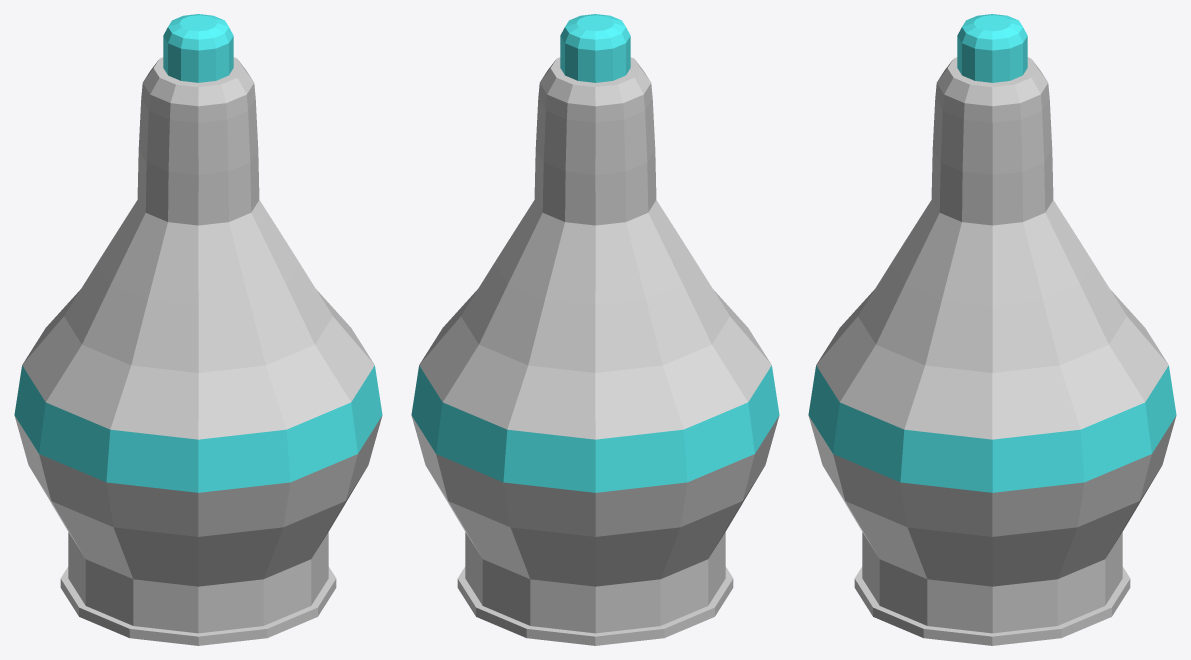
Rendered from fancy_glass_bottle_02.obj.
3 views of the same model, side by side, from view 1: azimuth 30°, elevation 25°; view 2: azimuth 150°, elevation 25°; view 3: azimuth 270°, elevation 25° (orthographic).
Visible parts, largest first — view 1: fancy_glass_bottle_02_m_Glass, fancy_glass_bottle_02_mi_CustomPropMain; view 2: fancy_glass_bottle_02_m_Glass, fancy_glass_bottle_02_mi_CustomPropMain; view 3: fancy_glass_bottle_02_m_Glass, fancy_glass_bottle_02_mi_CustomPropMain.
Boxes of the visible parts, <box> form: fancy_glass_bottle_02_m_Glass: <box>14,57,382,645</box>; fancy_glass_bottle_02_mi_CustomPropMain: <box>14,14,382,492</box>; fancy_glass_bottle_02_m_Glass: <box>411,57,779,645</box>; fancy_glass_bottle_02_mi_CustomPropMain: <box>411,14,779,492</box>; fancy_glass_bottle_02_m_Glass: <box>808,57,1176,645</box>; fancy_glass_bottle_02_mi_CustomPropMain: <box>808,14,1176,492</box>.
Size of the model in its own units: 0.2369 by 0.4038 by 0.2369.
Materials: 2 (1 with a texture image).
